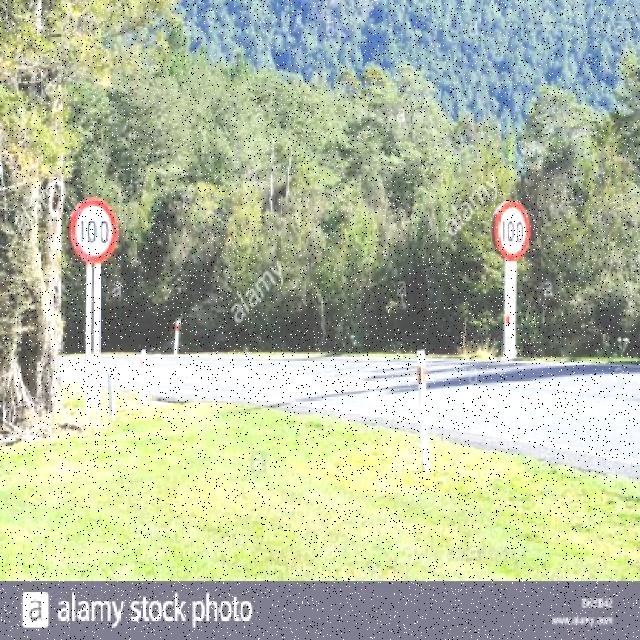Ograniczenie predkosci do 100: (67, 194, 121, 271), (492, 201, 534, 265)
